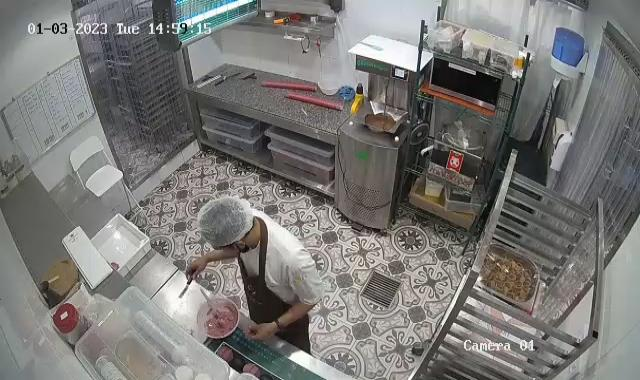hairnet: (197, 193, 253, 249)
